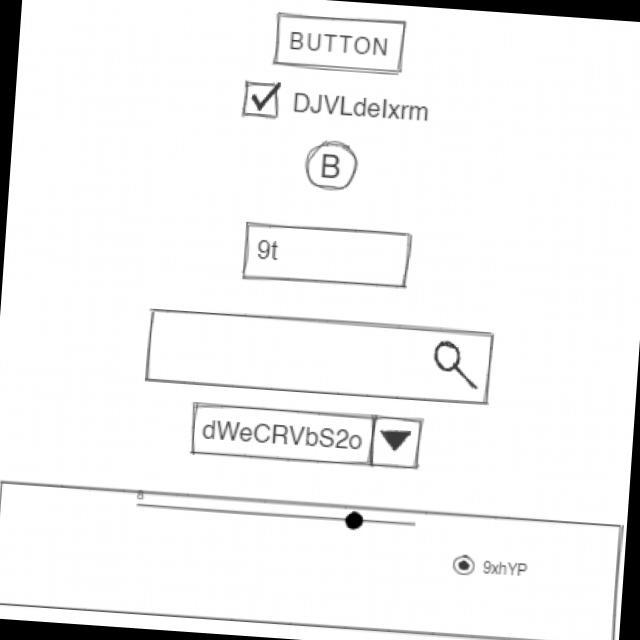button: (272, 11, 411, 80)
checkbox: (240, 77, 433, 133)
container: (1, 475, 627, 640)
icon-button: (301, 136, 363, 197)
input: (238, 218, 417, 294)
radio: (449, 554, 531, 583)
search: (143, 303, 501, 410)
select: (188, 397, 428, 474)
slider: (147, 496, 421, 538)
